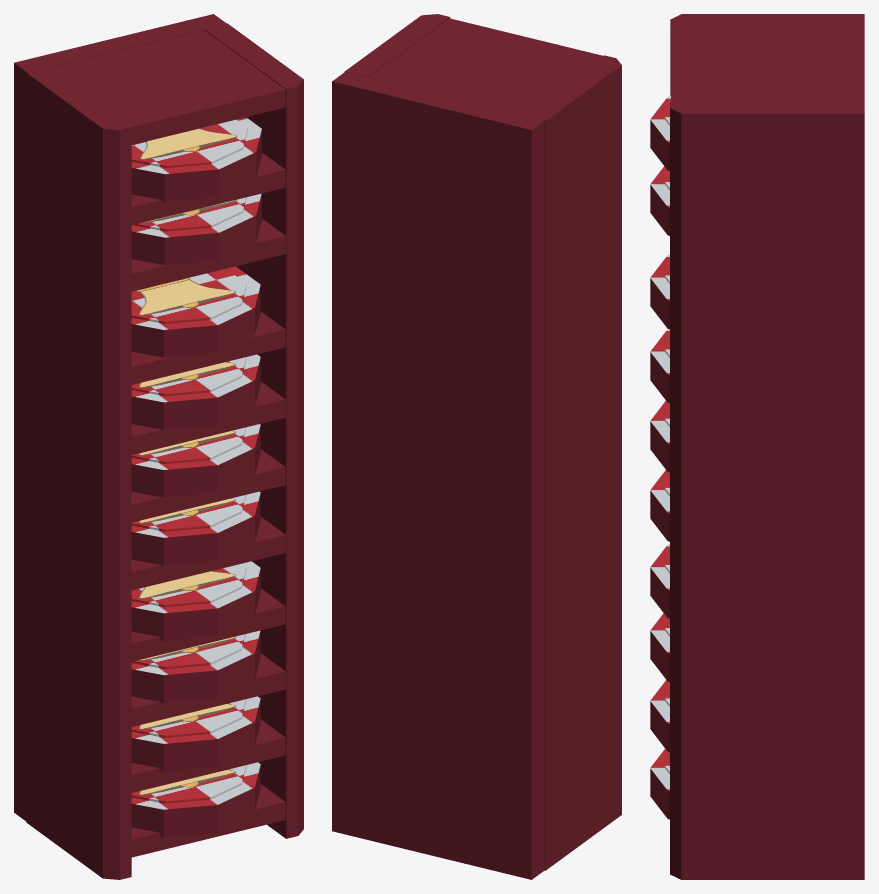
Rendered from t_pagerholder (1).fbx.
The picture shows the model from 3 angles, left to right: view 1: azimuth 30°, elevation 25°; view 2: azimuth 150°, elevation 25°; view 3: azimuth 270°, elevation 25°; orthographic projection. The views are drawn at different scales.
Parts seen in each view (by area): view 1: t_pagerholder, t_pager, t_pager.002, t_pager.006, t_pager.003, t_pager.008, t_pager.009, t_pager.005, t_pager.004, t_pager.007, t_pager.001; view 2: t_pagerholder; view 3: t_pagerholder, t_pager.002, t_pager, t_pager.003, t_pager.006, t_pager.008, t_pager.004, t_pager.005, t_pager.009, t_pager.001, t_pager.007.
Part boxes in pixels (x1,y1,x2,y2): t_pagerholder: (14, 14, 303, 879); t_pager: (131, 266, 260, 357); t_pager.002: (131, 117, 261, 201); t_pager.006: (131, 561, 260, 640); t_pager.003: (131, 354, 260, 429); t_pager.008: (131, 696, 260, 771); t_pager.009: (131, 762, 260, 837); t_pager.005: (131, 491, 260, 565); t_pager.004: (131, 424, 260, 497); t_pager.007: (131, 630, 260, 702); t_pager.001: (131, 193, 261, 265); t_pagerholder: (332, 14, 621, 879); t_pagerholder: (670, 14, 864, 879); t_pager.002: (650, 96, 670, 170); t_pager: (650, 254, 669, 329); t_pager.003: (650, 329, 669, 403); t_pager.006: (650, 544, 669, 618); t_pager.008: (650, 680, 669, 752); t_pager.004: (650, 401, 669, 472); t_pager.005: (650, 470, 669, 541); t_pager.009: (650, 749, 669, 819); t_pager.001: (650, 166, 669, 235); t_pager.007: (650, 613, 669, 681).
Bounding box in the file's own units: 36.13 × 129 × 32.7.
